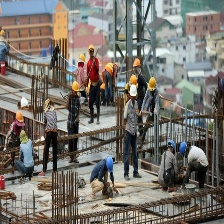helmet: (15, 110, 27, 128), (128, 83, 139, 101), (105, 156, 115, 174), (148, 78, 158, 95), (71, 78, 80, 94), (178, 138, 186, 155), (86, 45, 96, 57), (132, 57, 142, 68), (167, 141, 177, 152), (79, 52, 86, 65), (114, 61, 121, 72)
no-helmet: (42, 97, 51, 108), (19, 131, 28, 142)
no-vest: (66, 92, 84, 132), (125, 99, 139, 142), (18, 140, 36, 170), (158, 153, 175, 184), (189, 148, 207, 174), (45, 109, 59, 139), (88, 59, 101, 91), (90, 157, 106, 181)
person: (123, 85, 145, 186), (63, 76, 84, 165), (179, 140, 211, 190), (83, 44, 102, 127), (84, 153, 117, 200), (42, 96, 60, 179), (154, 140, 178, 192), (15, 129, 36, 178), (103, 60, 122, 101)
vest: (106, 61, 118, 77)
